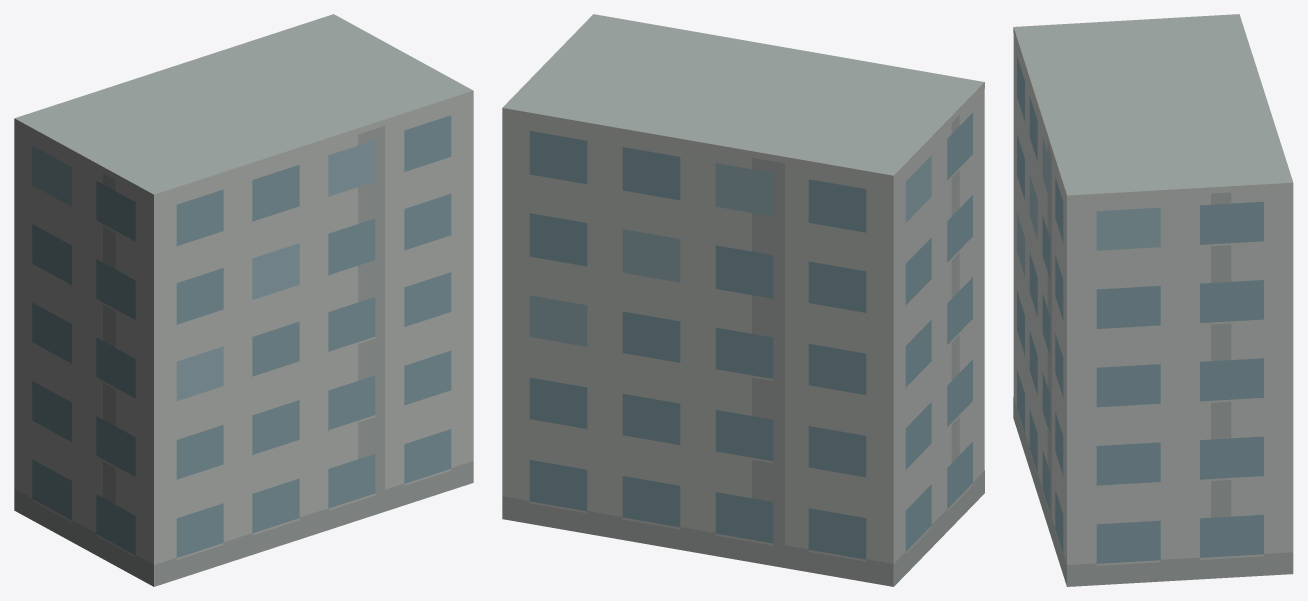
Rendered from residential-2e33da90-6a9d-406c-b988-1ffd7df8690a.glb.
3 views of the same model, side by side, from view 1: azimuth 30°, elevation 25°; view 2: azimuth 150°, elevation 25°; view 3: azimuth 270°, elevation 25° (orthographic). The views are drawn at different scales.
Visible parts, largest first — view 1: residential-2e33da90-6a9d-406c-b988-1ffd7df8690a.tmp; view 2: residential-2e33da90-6a9d-406c-b988-1ffd7df8690a.tmp; view 3: residential-2e33da90-6a9d-406c-b988-1ffd7df8690a.tmp.
Boxes of the visible parts, box(x1,y1,x2,y2) form: residential-2e33da90-6a9d-406c-b988-1ffd7df8690a.tmp: box(14, 14, 473, 586); residential-2e33da90-6a9d-406c-b988-1ffd7df8690a.tmp: box(502, 14, 984, 586); residential-2e33da90-6a9d-406c-b988-1ffd7df8690a.tmp: box(1013, 14, 1293, 586).
Size of the model in its own units: 15.18 by 15.25 by 9.9.
